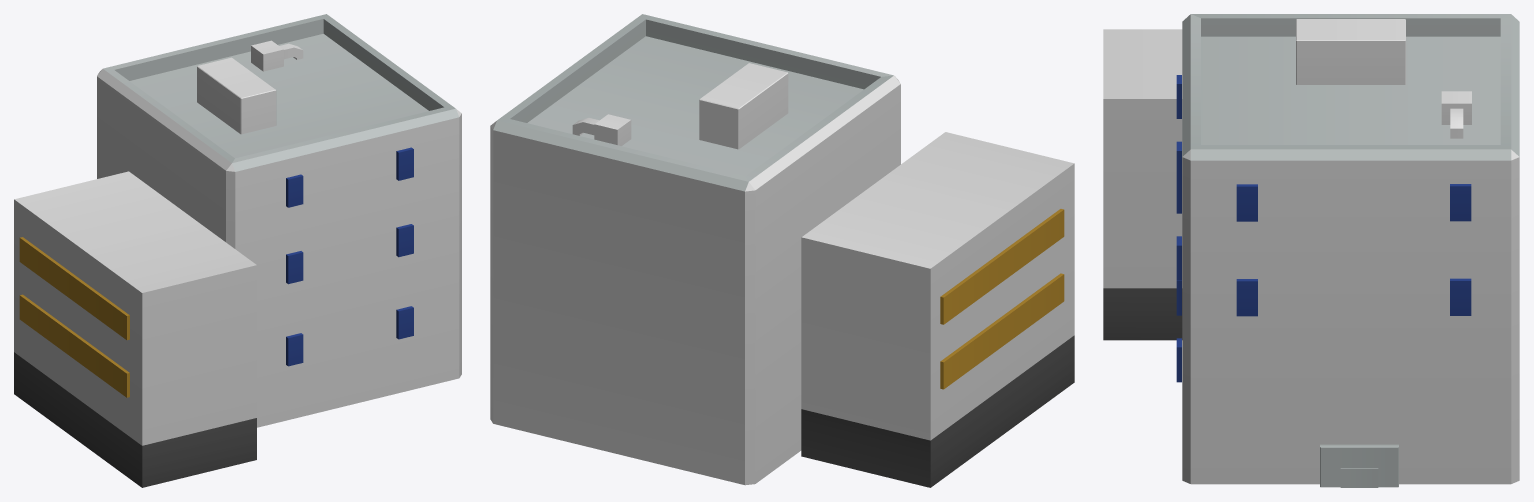
The model's file is Siamesi.fbx.
3 renders of one model, left to right at view 1: azimuth 30°, elevation 25°; view 2: azimuth 150°, elevation 25°; view 3: azimuth 270°, elevation 25°, orthographic. The views are drawn at different scales.
Visible parts, largest first — view 1: polySurface56; view 2: polySurface56; view 3: polySurface56.
Boxes of the visible parts, x1,y1,x2,y2 form: polySurface56: [14, 14, 461, 487]; polySurface56: [490, 14, 1074, 487]; polySurface56: [1103, 14, 1519, 487].
Bounding box in the file's own units: 13.91 × 10.56 × 11.09.
